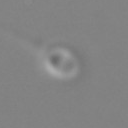normal: (1, 22, 46, 55)
